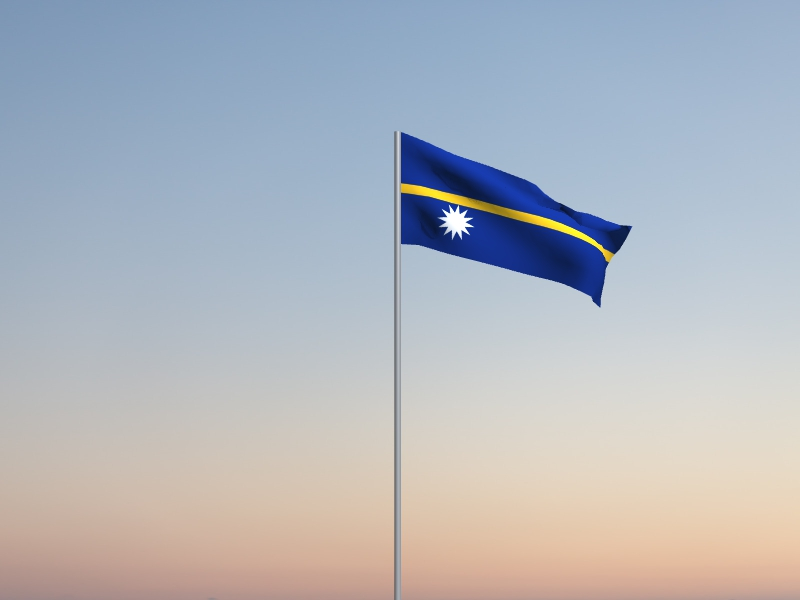nr: (402, 133, 634, 309)
